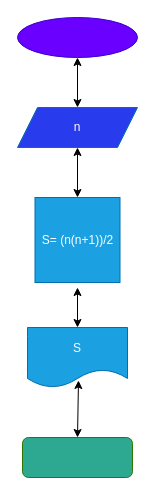
The diagram is 155 pixels wide and 495 high, and some of its shapes have lost their labels. The box of each missing label's shape, as (x1, y1, x2, y2) in pixels:
FIN: (22, 436, 132, 478)
INICIO: (16, 16, 138, 58)
